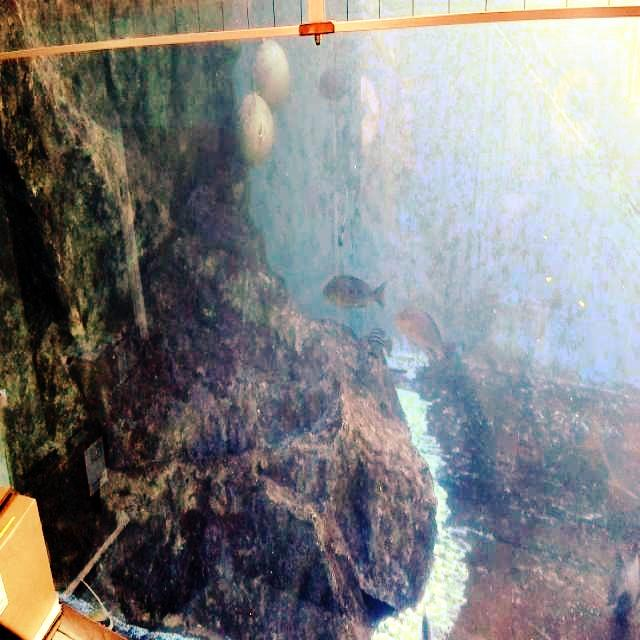Plectorhinchus lessonii: (364, 318, 397, 362)
gold snapper: (396, 294, 456, 378), (318, 266, 389, 320)
